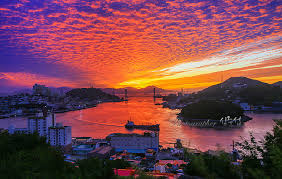lake: (73, 98, 274, 147)
sky: (2, 1, 279, 83)
tree: (187, 72, 282, 106), (1, 85, 118, 109)
vilage: (46, 132, 196, 176)
